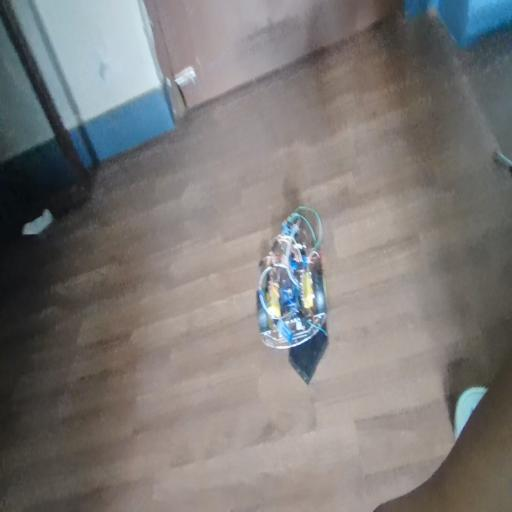car: (246, 226, 364, 376)
